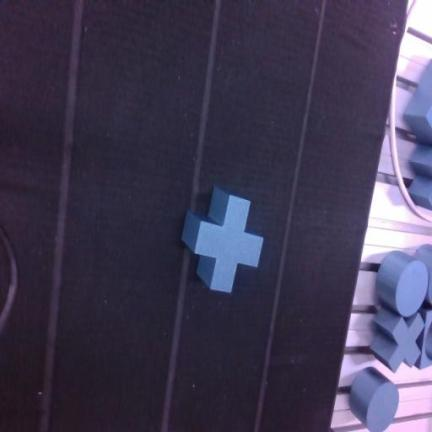cross: (182, 188, 263, 292), (371, 309, 424, 372)
